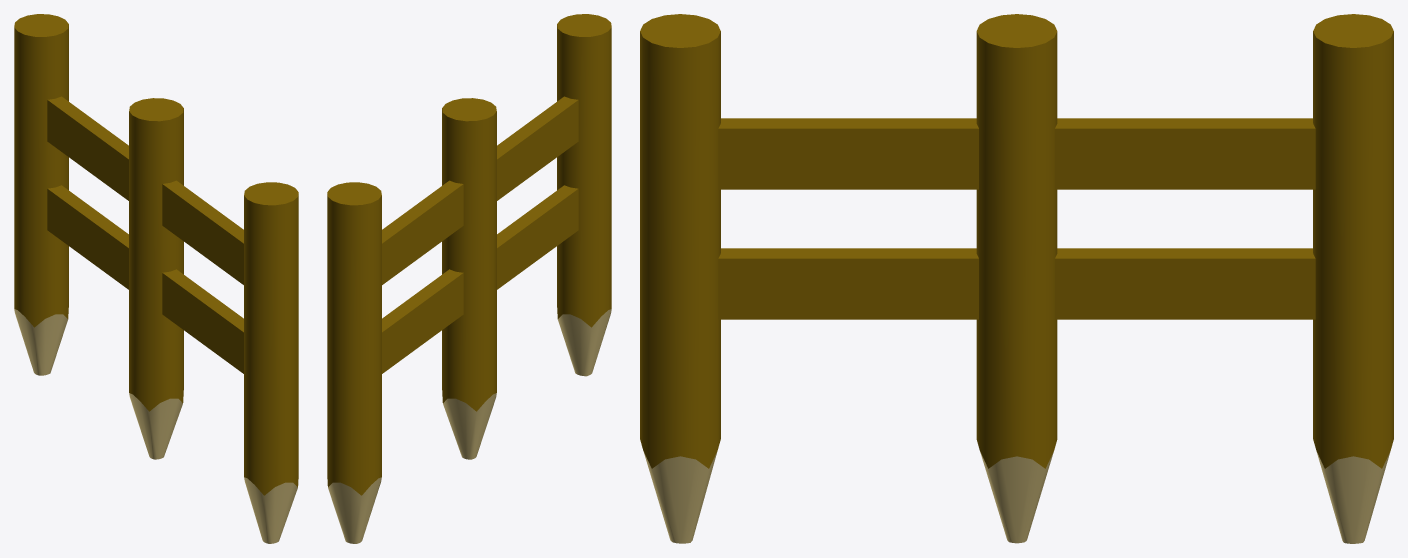
File: fence.fbx
3 renders of one model, left to right at view 1: azimuth 30°, elevation 25°; view 2: azimuth 150°, elevation 25°; view 3: azimuth 270°, elevation 25°, orthographic. The views are drawn at different scales.
Parts seen in each view (by area): view 1: polySurface2; view 2: polySurface2; view 3: polySurface2.
Boxes of the visible parts, x1,y1,x2,y2 form: polySurface2: [14, 14, 298, 543]; polySurface2: [327, 14, 611, 543]; polySurface2: [640, 14, 1393, 543].
Bounding box in the file's own units: 60 × 416 × 560.
